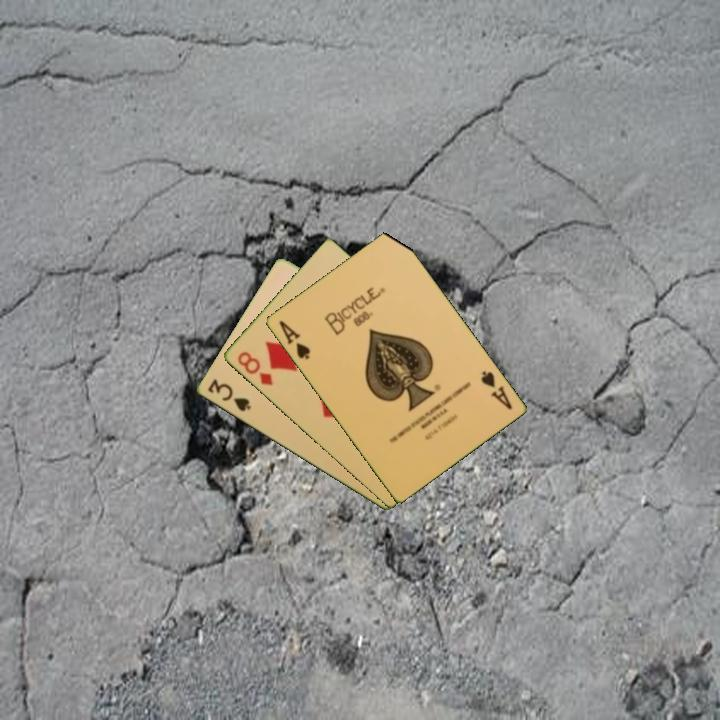3s: (203, 375, 254, 415)
8d: (233, 348, 276, 389)
As: (275, 317, 313, 363), (477, 367, 515, 413)
